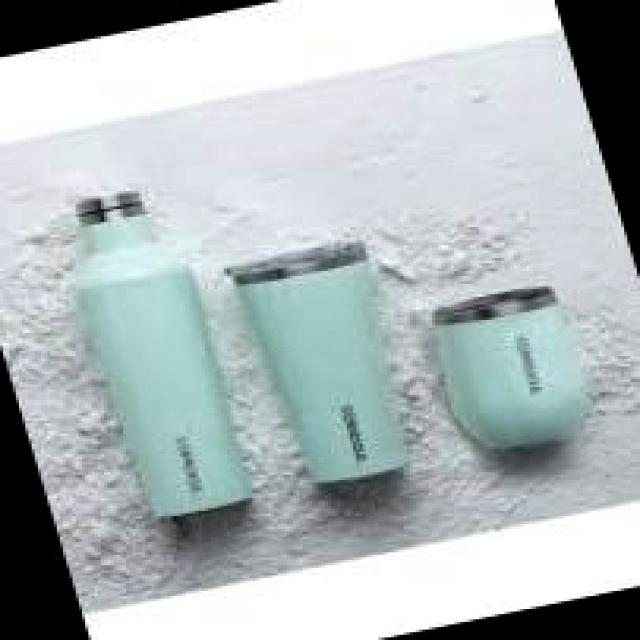bottle: (48, 183, 258, 524), (216, 236, 427, 497), (416, 282, 596, 456)
